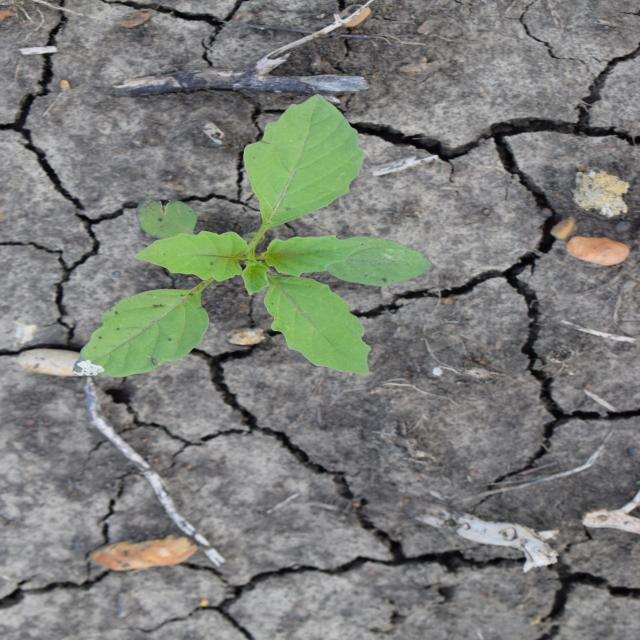CutleafGroundcherry: (70, 92, 434, 379)
